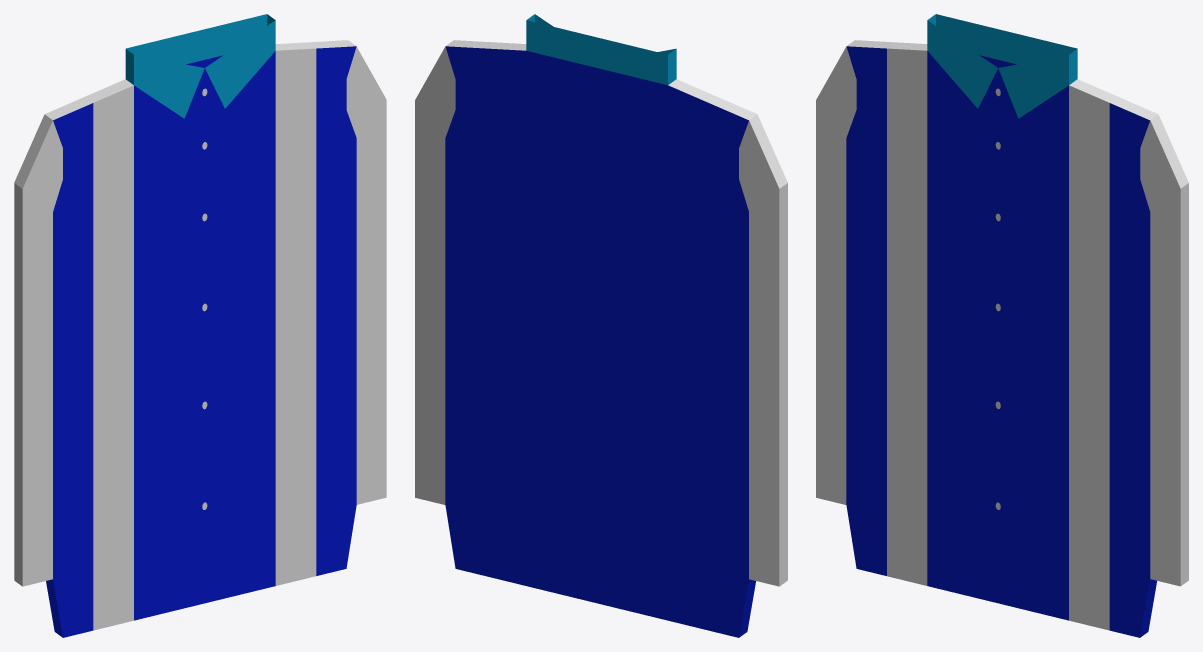
The model's file is shirt-blue.dae.
3 views of the same model, side by side, from view 1: azimuth 30°, elevation 25°; view 2: azimuth 150°, elevation 25°; view 3: azimuth 330°, elevation 25° (orthographic).
Visible parts, largest first — view 1: group_1_002, group_1_004, group_1_008, group_1_006, group_1_009, group_1_003, group_1_005, group_1_014; view 2: group_1_002, group_1_004, group_1_007, group_1_006, group_1_015, group_1_008, group_1_005; view 3: group_1_002, group_1_008, group_1_004, group_1_006, group_1_003, group_1_009, group_1_014, group_1_005.
Part boxes in pixels (x1,y1,x2,y2): group_1_002: (46, 46, 356, 637); group_1_004: (14, 79, 133, 630); group_1_008: (275, 40, 386, 585); group_1_006: (126, 14, 267, 64); group_1_009: (125, 49, 204, 118); group_1_003: (205, 14, 275, 108); group_1_005: (14, 518, 52, 586); group_1_014: (356, 436, 386, 504); group_1_002: (445, 46, 755, 637); group_1_004: (668, 79, 787, 525); group_1_007: (415, 46, 455, 504); group_1_006: (526, 20, 667, 85); group_1_015: (749, 518, 779, 586); group_1_008: (446, 40, 526, 50); group_1_005: (779, 519, 787, 586); group_1_002: (846, 46, 1156, 637); group_1_008: (1069, 79, 1188, 630); group_1_004: (816, 40, 927, 585); group_1_006: (936, 14, 1077, 64); group_1_003: (998, 49, 1077, 118); group_1_009: (927, 14, 997, 108); group_1_014: (1150, 518, 1188, 586); group_1_005: (816, 436, 846, 504).
Size of the model in its own units: 0.6333 by 0.0254 by 0.9398.
